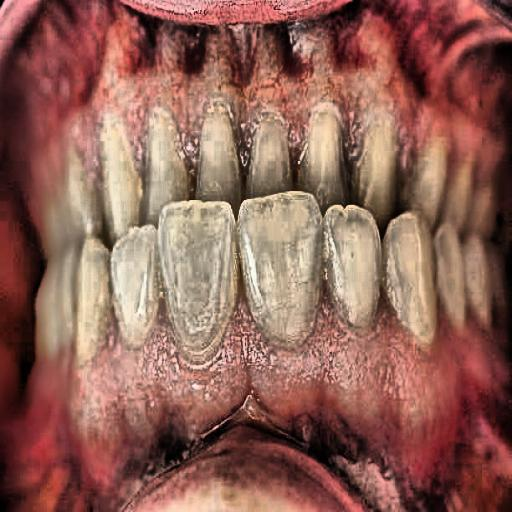Gingivitis: (43, 323, 488, 461)
